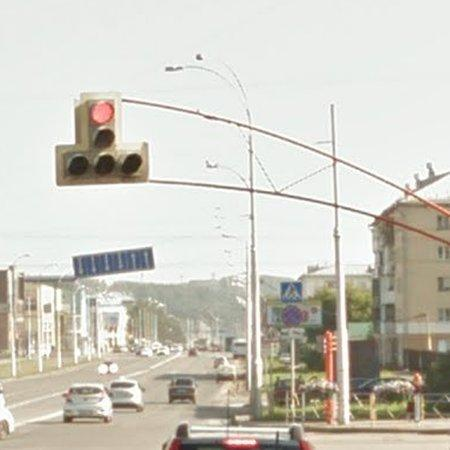traffic lights: (54, 142, 149, 188), (78, 87, 121, 149)
